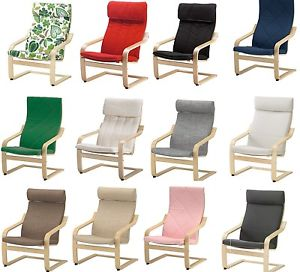chairs: (80, 2, 151, 90), (74, 97, 146, 182), (230, 93, 297, 183), (6, 3, 76, 89), (72, 184, 140, 272), (151, 98, 220, 183), (220, 188, 289, 272), (151, 2, 219, 86), (230, 1, 298, 84), (143, 187, 209, 272), (1, 96, 66, 182), (3, 187, 68, 271)
